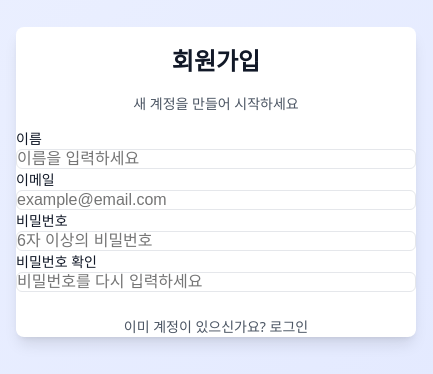
Scenario: Register 페이지 › 회원가입 기능 › 이미 존재하는 이메일로 회원가입하면 에러가 표시된다
Type "테스트 사용자" into the field labelled "이름". click: (216, 159)
box: 16,149 -> 416,169
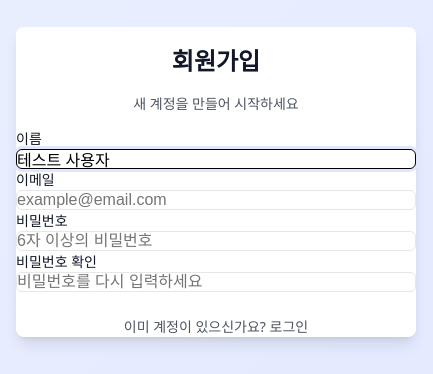
Type "test@example.com" into the field labelled "이메일". click: (216, 200)
box: 16,190 -> 416,210
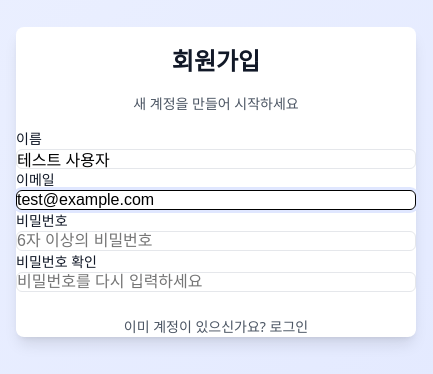
Type "password123" into the password field labelled "비밀번호". click: (216, 241)
box: 16,231 -> 416,251
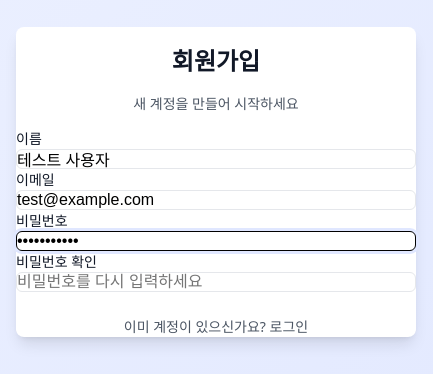
Type "password123" into the password field labelled "비밀번호 확인". click: (216, 282)
box: 16,272 -> 416,292
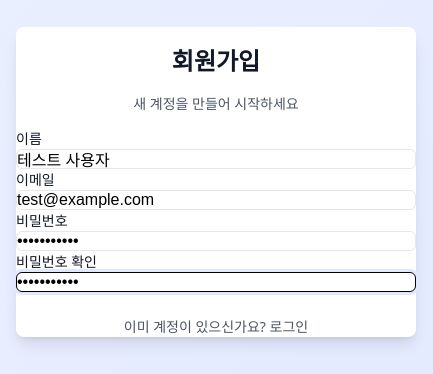
Click the button "회원가입". click: (216, 304)
box: 16,292 -> 416,316
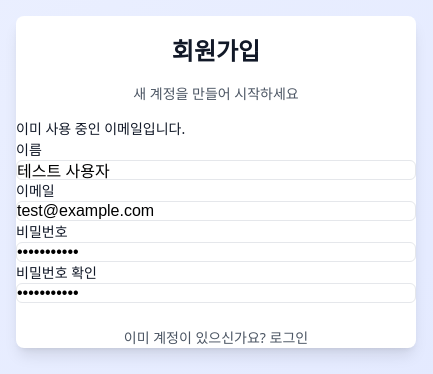
Check: the text "이미 사용 중인 이메일입니다." is shown, box 16,118 -> 185,138
